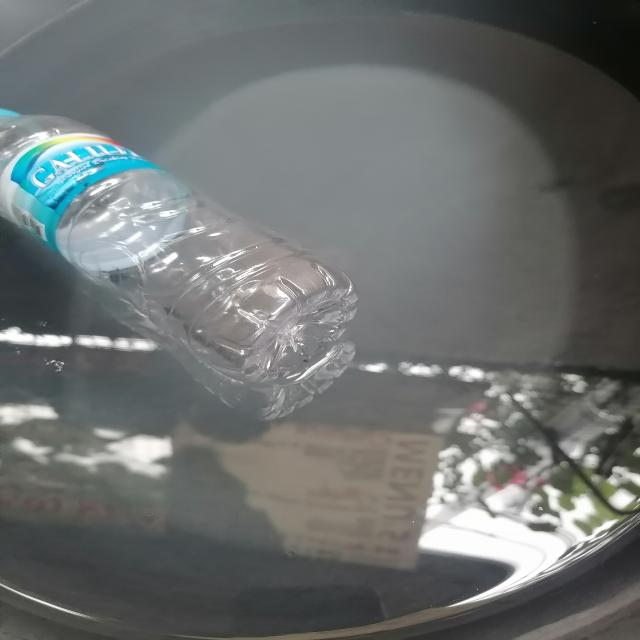Plastic Bottle: (0, 85, 382, 402)
